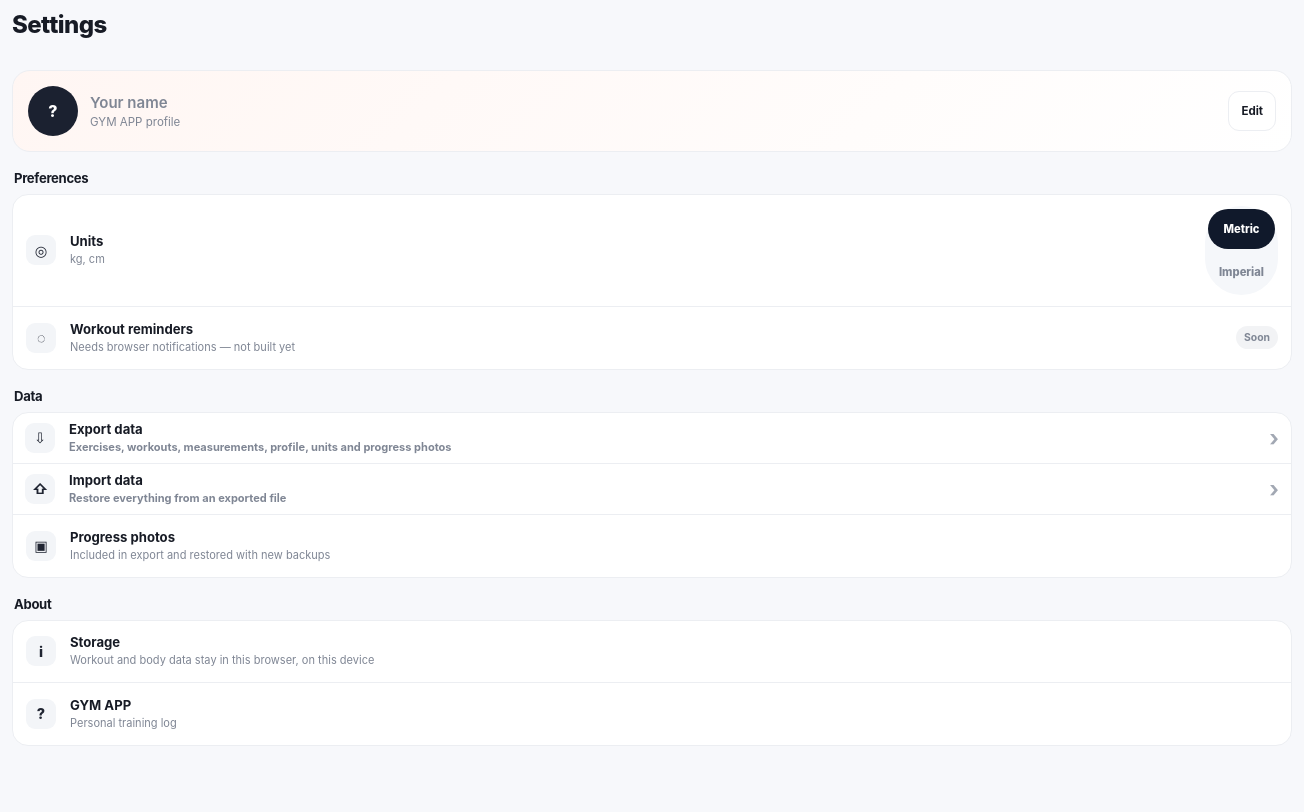
Test: SettingsPage units › starts on metric and remembers the switch to imperial
The image size is (1304, 812).
Expected: the text "kg, cm" is shown, x1=70 y1=252 x2=105 y2=266
Click the button "Imperial".
click(1241, 272)  # box x1=1208 y1=252 x2=1275 y2=292
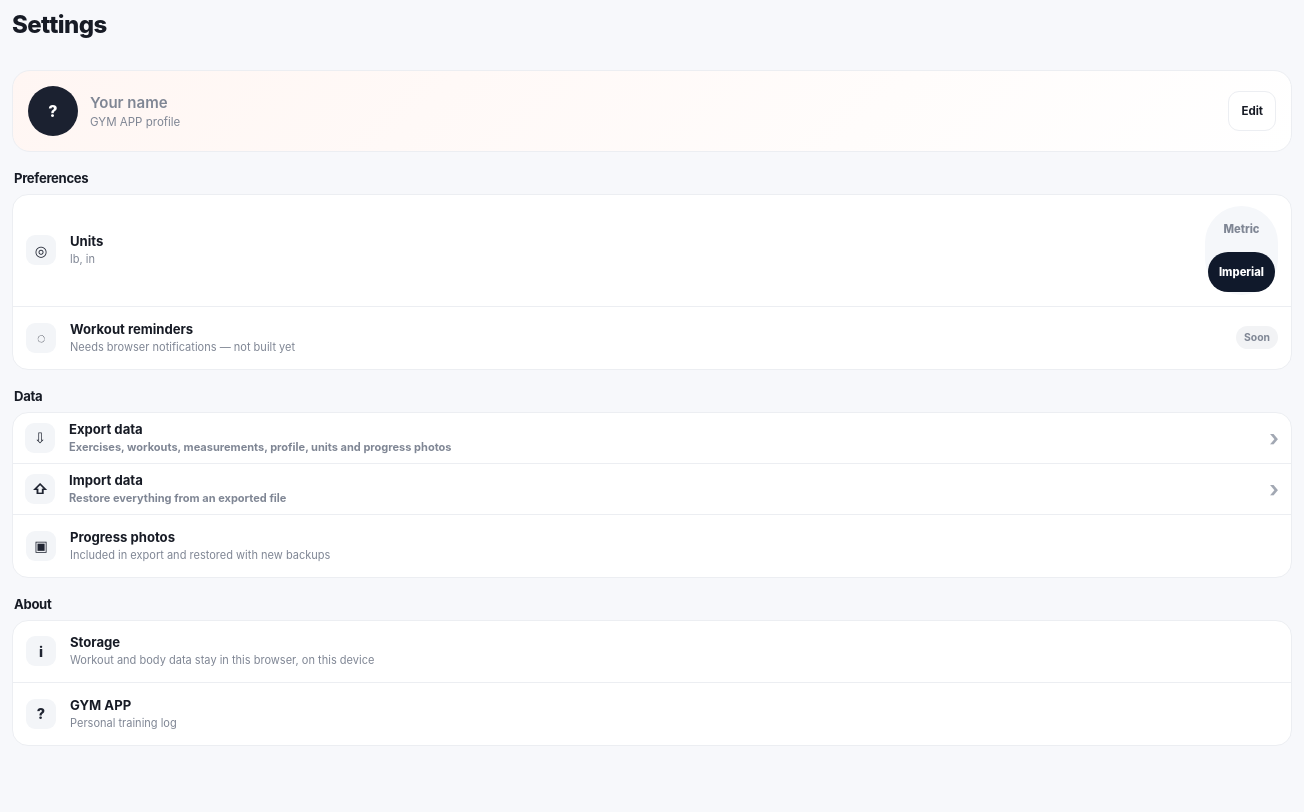
Expected: the text "lb, in" is shown, x1=70 y1=252 x2=95 y2=266
